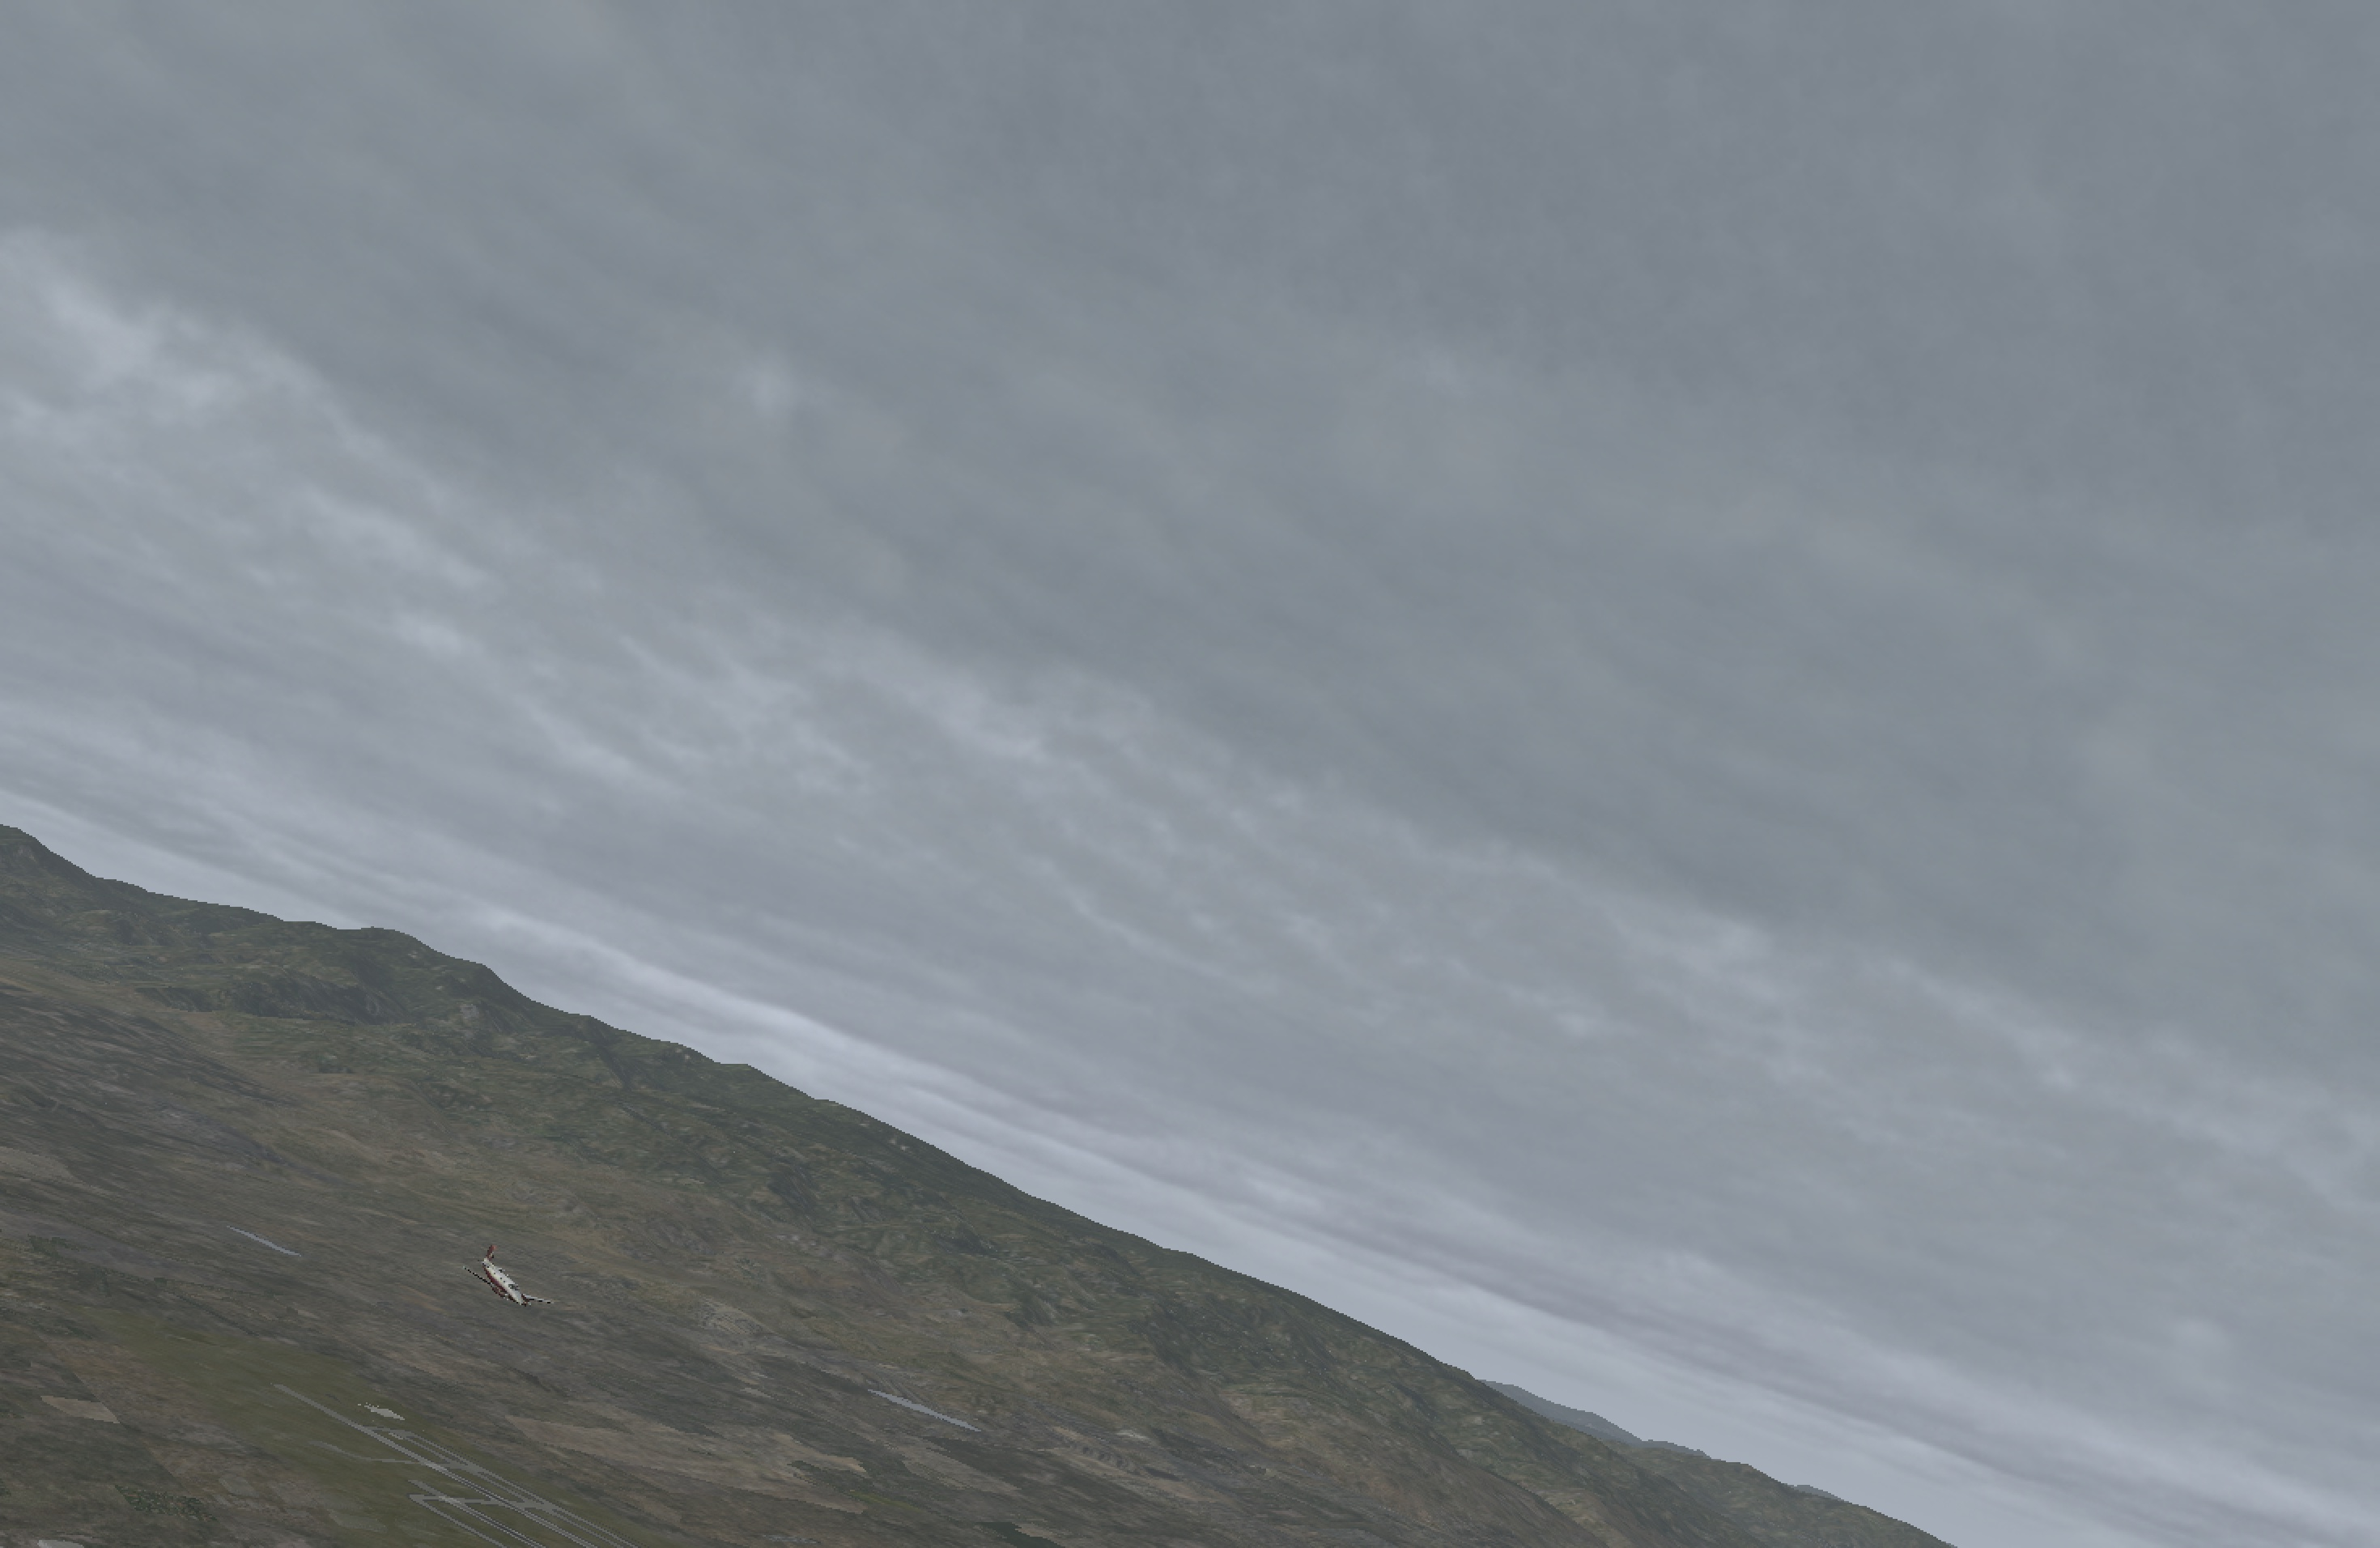aircraft: (446, 1272, 564, 1315)
